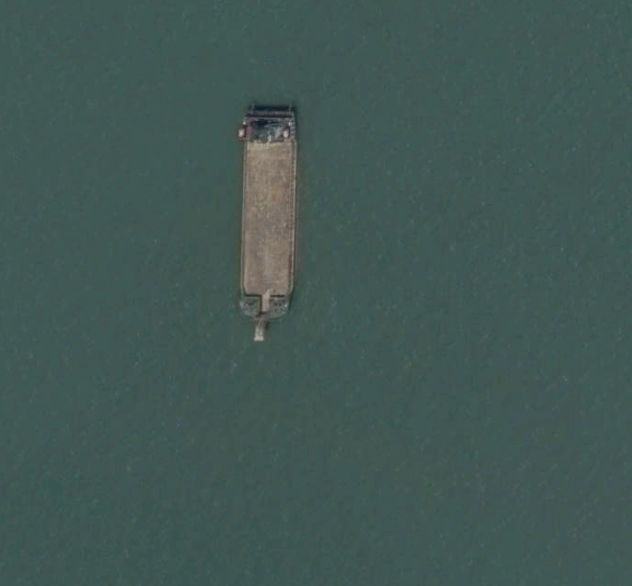boat: (236, 104, 302, 346)
